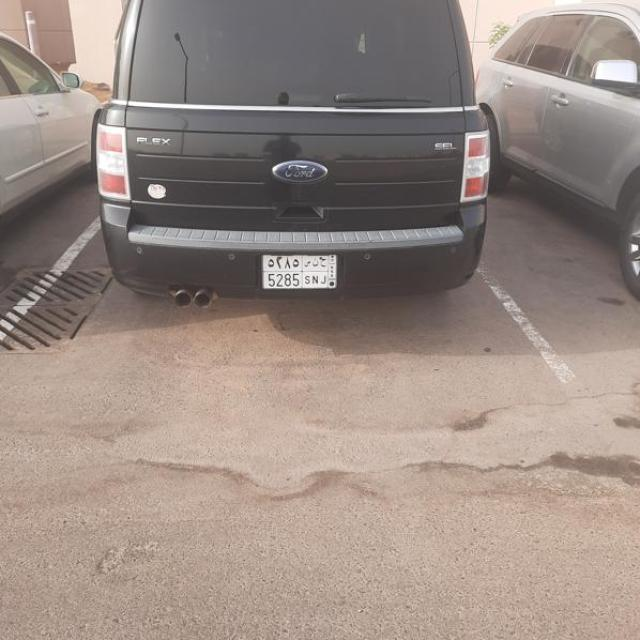license_plate: (262, 255, 337, 289)
